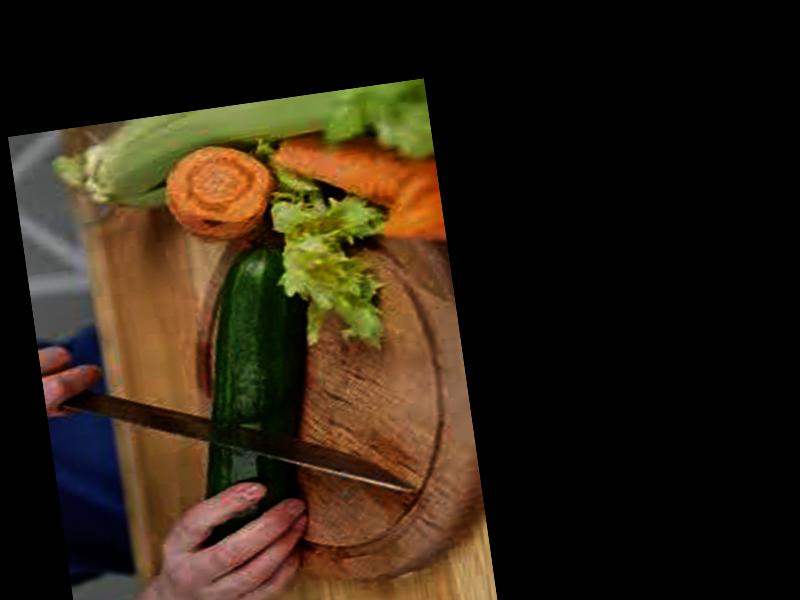Cucumber: (171, 240, 330, 542)
